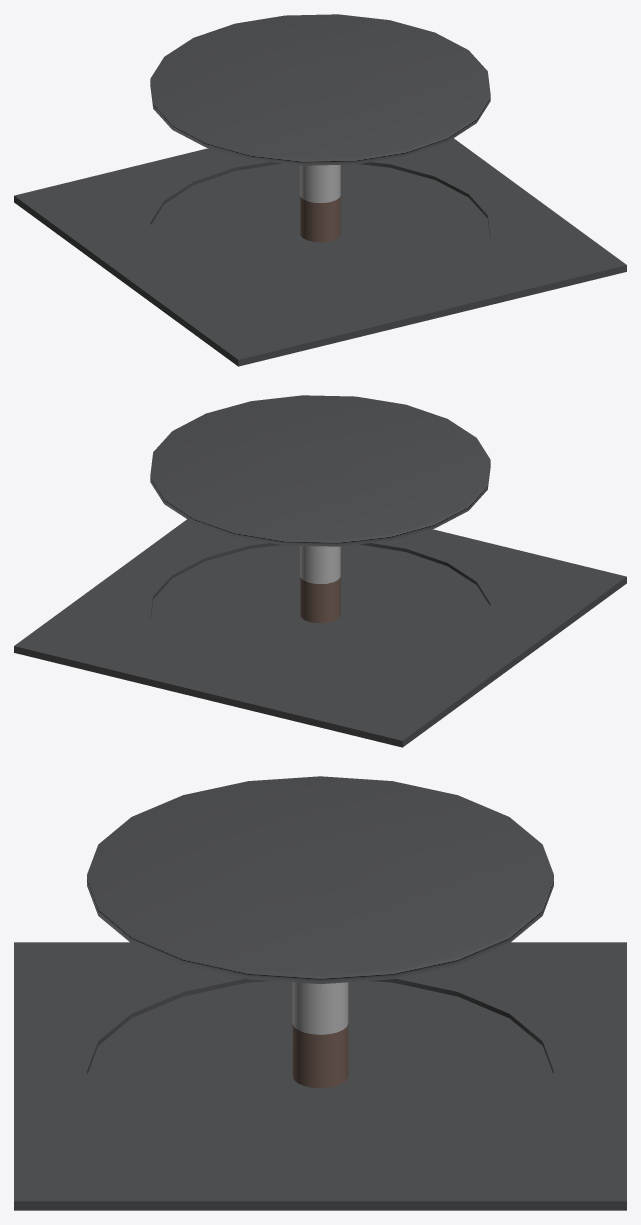
The model's file is Manhole_V4.fbx.
3 renders of one model, top to bottom at view 1: azimuth 30°, elevation 25°; view 2: azimuth 150°, elevation 25°; view 3: azimuth 270°, elevation 25°, orthographic. The views are drawn at different scales.
Parts seen in each view (by area): view 1: Trap_Base_Manhole1, ManHole_Piston; view 2: Trap_Base_Manhole1, ManHole_Piston; view 3: Trap_Base_Manhole1, ManHole_Piston.
Part boxes in pixels (x1,y1,x2,y2): Trap_Base_Manhole1: [14, 138, 626, 366]; ManHole_Piston: [150, 14, 490, 242]; Trap_Base_Manhole1: [14, 519, 626, 747]; ManHole_Piston: [150, 395, 490, 623]; Trap_Base_Manhole1: [14, 942, 626, 1210]; ManHole_Piston: [87, 776, 553, 1088].
Size of the model in its own units: 0.12 by 0.0661 by 0.12.
